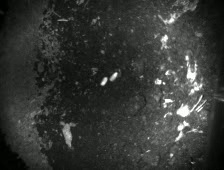corn: (107, 70, 119, 84), (98, 74, 109, 87)
